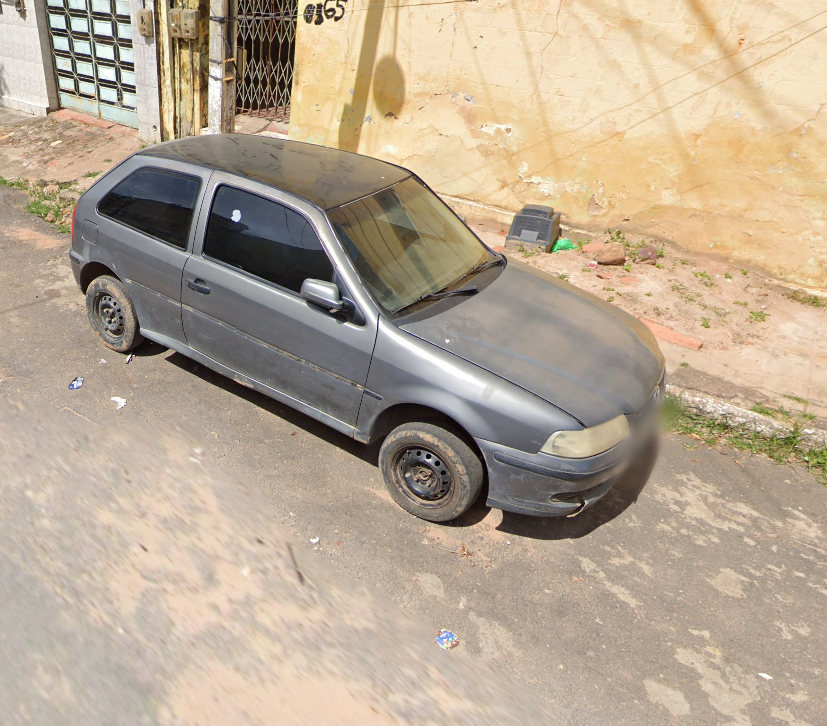car: (66, 127, 675, 550)
